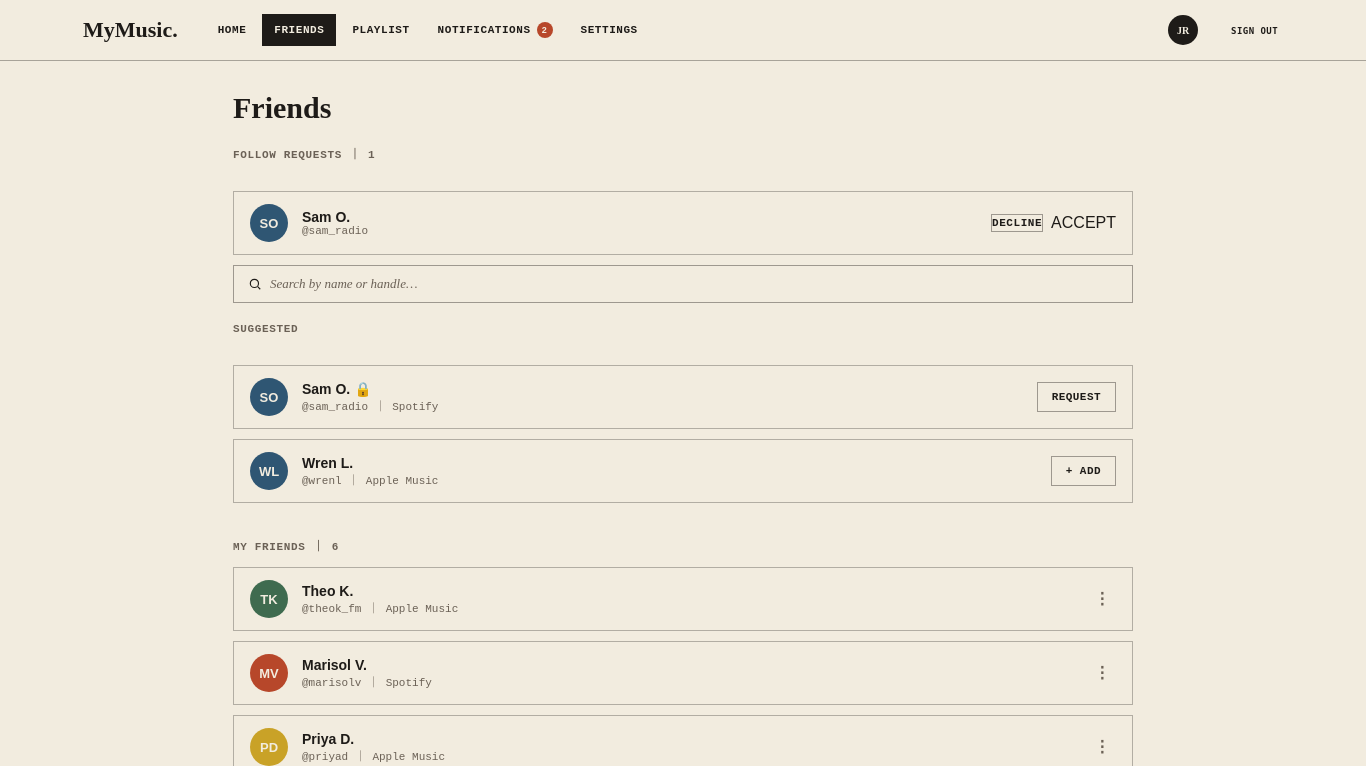
Test: friends › accepts an incoming follow request from the request inbox
Expected: the heading "FOLLOW REQUESTS ｜ 1" is shown, [233,149,375,161]
Click the button with aria-label "Accept follow request from Sam O.".
click(1084, 223)  # box [1051,214,1116,232]
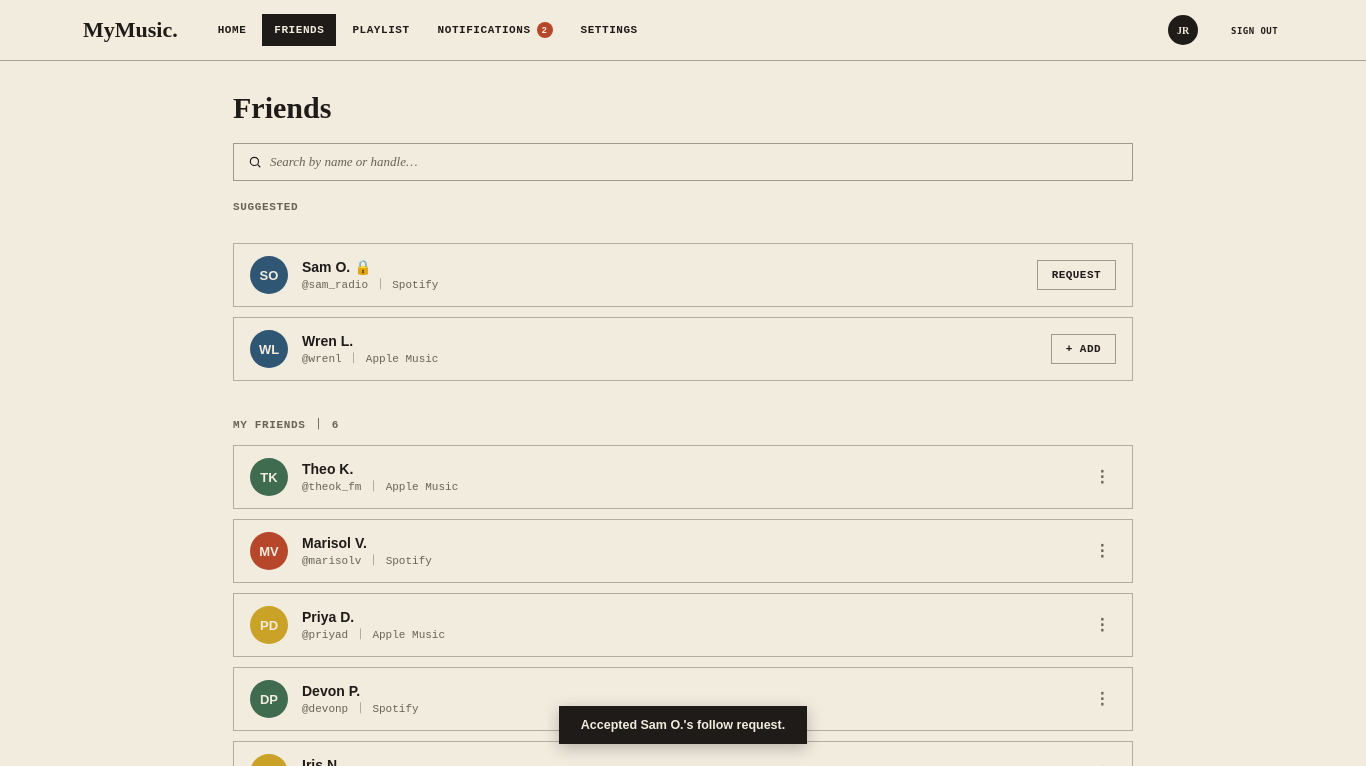
Now the heading "FOLLOW REQUESTS" is gone
Now the text "Accepted Sam O.'s follow request." is shown, box [559,706,807,744]
